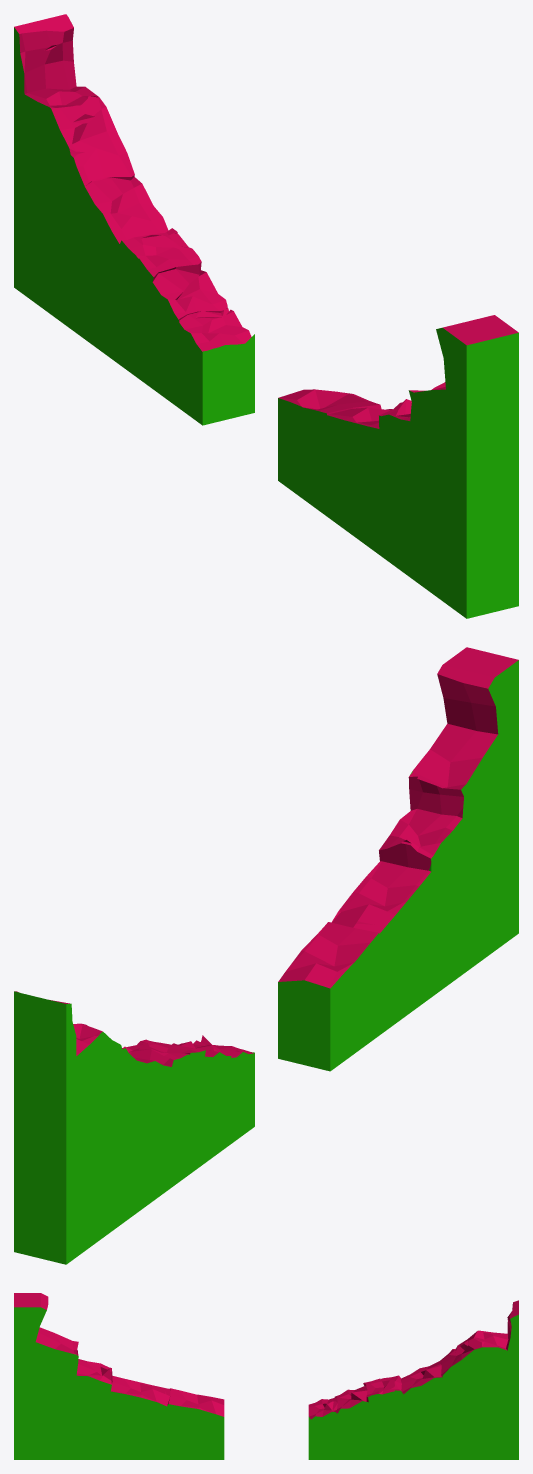
Rendered from WallDestroyed.fbx.
3 renders of one model, top to bottom at view 1: azimuth 30°, elevation 25°; view 2: azimuth 150°, elevation 25°; view 3: azimuth 270°, elevation 25°, orthographic. The views are drawn at different scales.
Parts seen in each view (by area): view 1: Cube; view 2: Cube; view 3: Cube.
Part boxes in pixels (<box>): Cube: <box>14,14,518,618</box>; Cube: <box>14,647,518,1264</box>; Cube: <box>14,1293,518,1459</box>.
Size of the model in its own units: 40.01 by 200 by 600.
